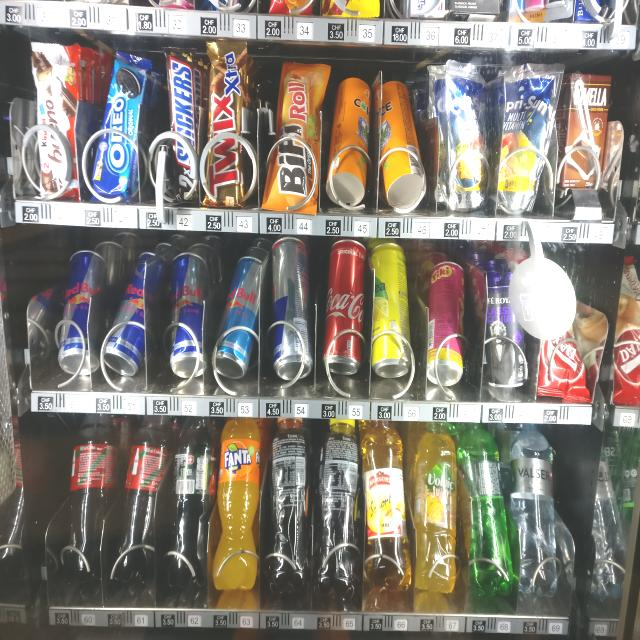bifi_roll__50__4251097402635: (262, 57, 323, 217)
bueno___43__4008400320328: (28, 42, 84, 200)
c-swiss_dosenabisicetea__33__9120025930135: (376, 81, 428, 213), (329, 76, 372, 206)
caferoyal_classicmacchiato__33__7617014164487: (486, 270, 526, 388)
caprisun_multivitamin__20__4000177605004: (497, 68, 556, 214), (442, 59, 497, 212)
coke__dose_33__54491472: (324, 235, 369, 378)
coke__flasche_50__54491472: (68, 410, 120, 584), (119, 414, 169, 584)
coke_zero_flasche_50__5449000131836: (167, 418, 218, 592)
comella_schokodrink__33__7613100037253: (570, 70, 609, 212)
fanta___50__40822938: (214, 415, 260, 592)
fuse_lemon_dose_33__5449000235947: (370, 244, 414, 380)
fuse_peach__50__5449000236623: (314, 412, 362, 598), (271, 412, 315, 599)
oreo___66__84100733: (87, 49, 147, 201)
ramseier_schorle__50__7610057012456: (360, 419, 414, 596)
redbull___33__90162909: (268, 234, 318, 386), (109, 251, 158, 383), (58, 248, 104, 379), (169, 252, 209, 381)
redbull_light__33__90162800: (214, 256, 264, 385)
snickers___50__5000159461122: (162, 45, 202, 204)
tiki_himbeerbrause_dose_33_1_: (427, 260, 470, 383)
twix___50__5000159459228: (204, 38, 248, 210)
valser_classic__50__76404160: (459, 422, 518, 600)
valser_still__50__7610335002575: (510, 418, 560, 602)
volvic_pinapple__50__305764335648: (412, 416, 460, 593)
